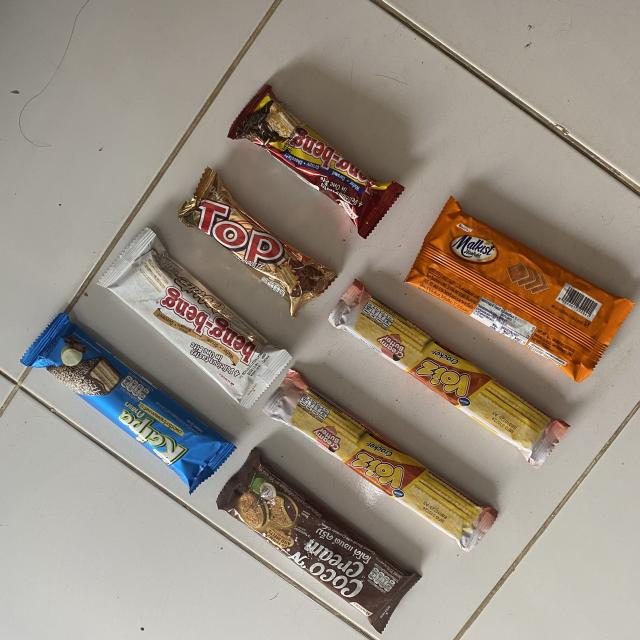plastik: (329, 281, 568, 466), (263, 370, 498, 552), (405, 197, 634, 381), (21, 313, 235, 493), (216, 449, 421, 633), (98, 228, 291, 408), (229, 86, 404, 238), (178, 168, 337, 317)
